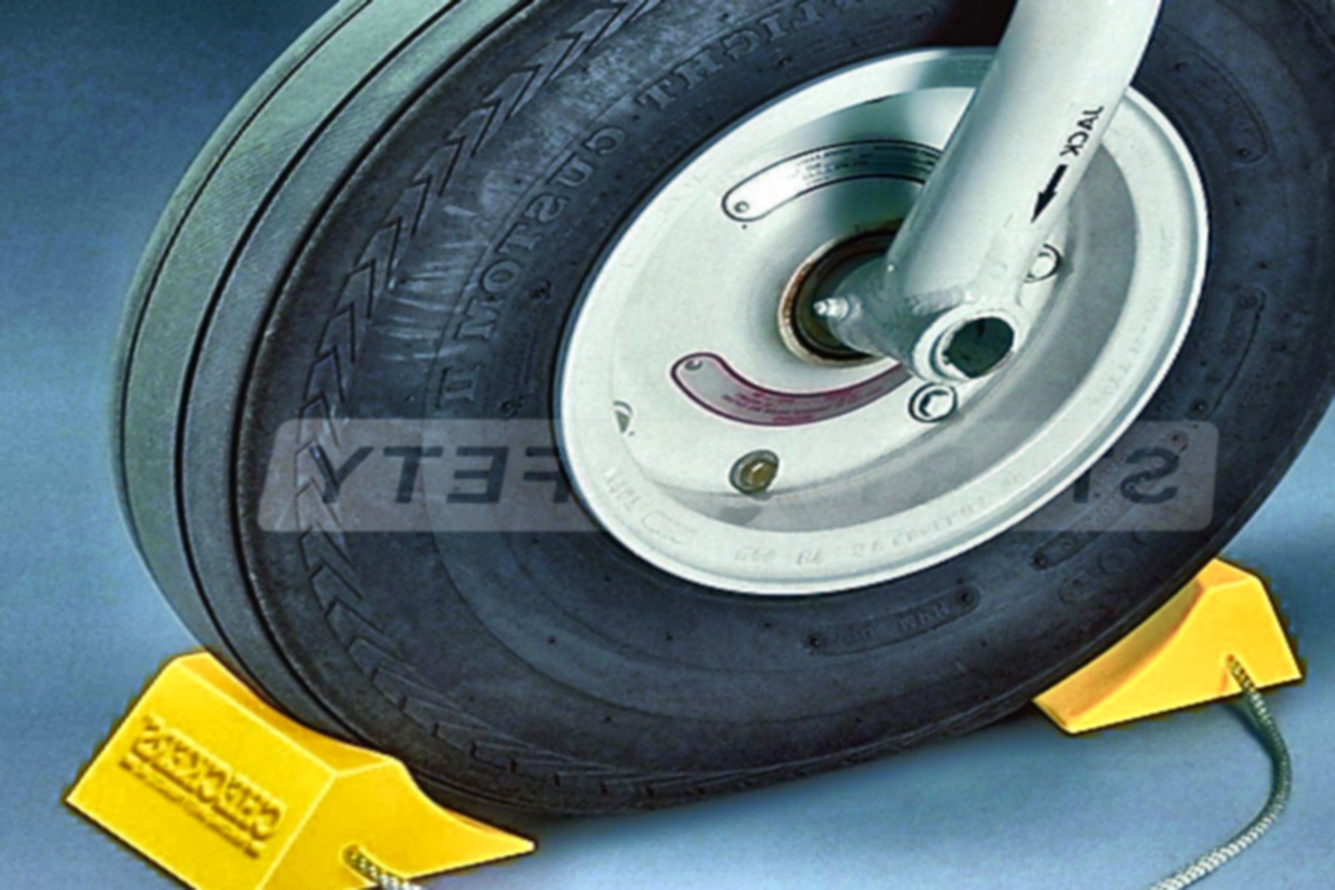chock: (23, 647, 574, 890), (1027, 553, 1312, 737)
wheel: (0, 0, 1335, 827)
